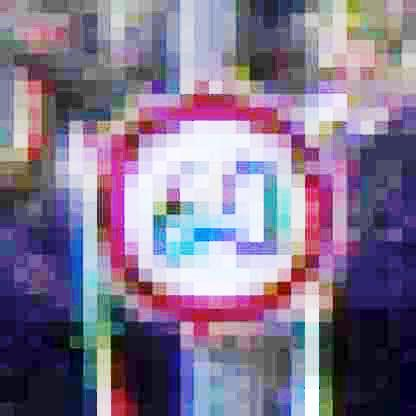Speed Limit -60-: (82, 82, 352, 330)
